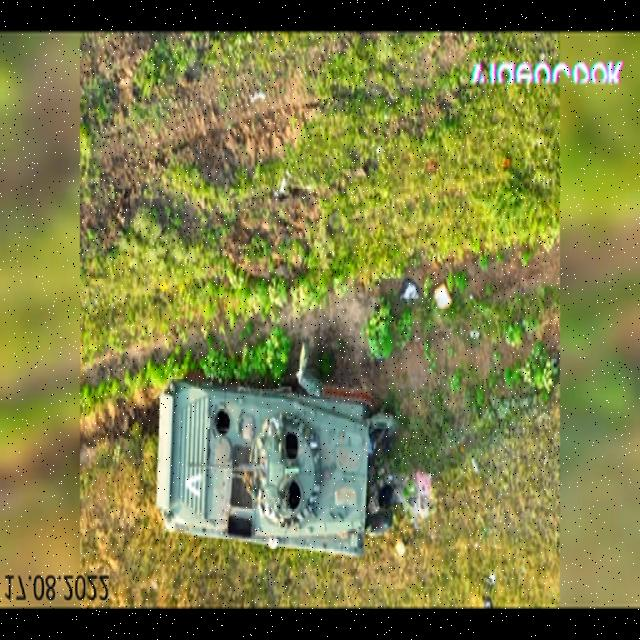APC-IFV: (153, 372, 375, 556)
